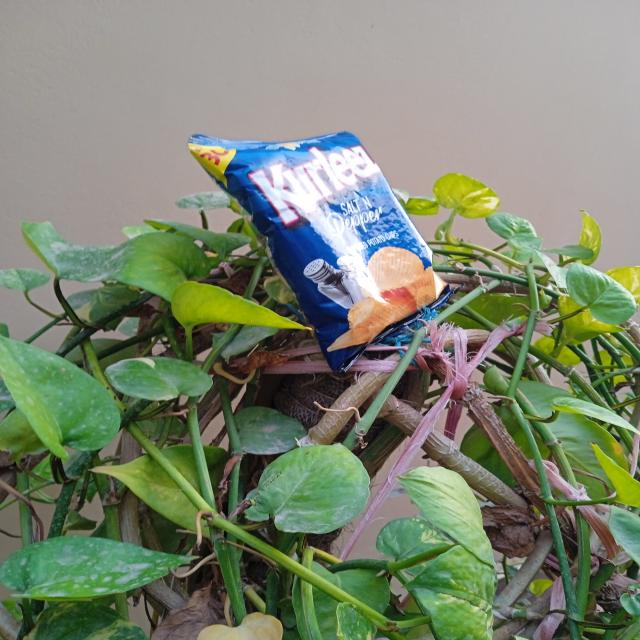Plastic: (188, 132, 460, 368)
